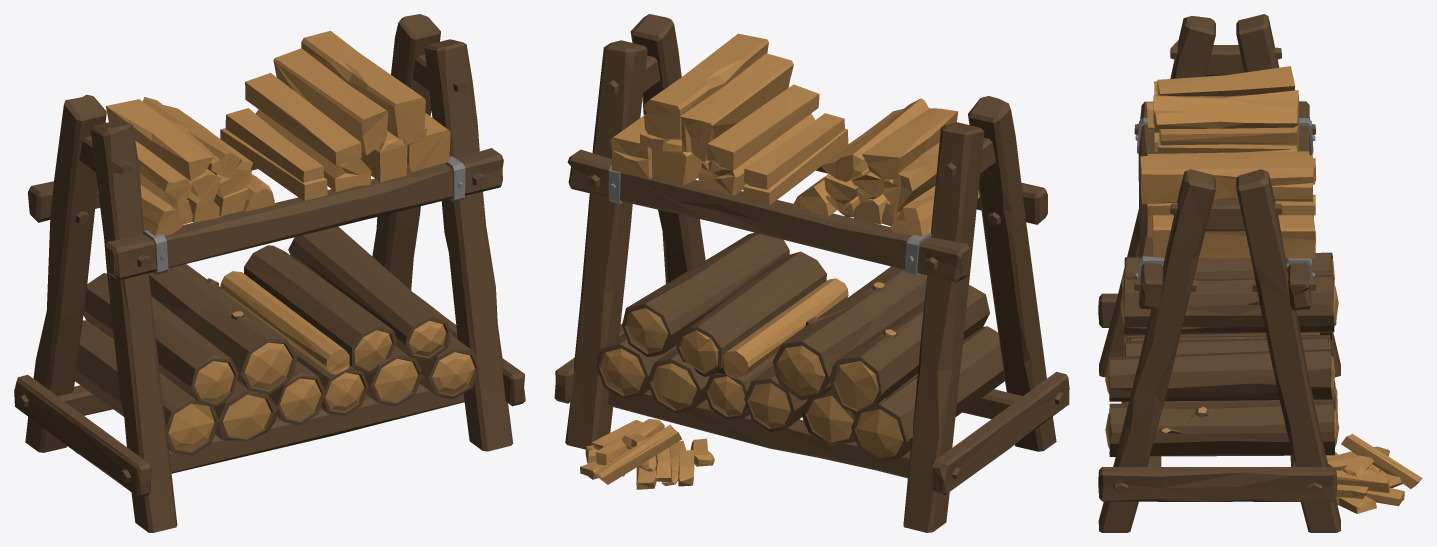
The model's file is WoodenLumberRack.fbx.
3 renders of one model, left to right at view 1: azimuth 30°, elevation 25°; view 2: azimuth 150°, elevation 25°; view 3: azimuth 270°, elevation 25°, orthographic. The views are drawn at different scales.
Parts seen in each view (by area): view 1: WoodenLumberRack; view 2: WoodenLumberRack; view 3: WoodenLumberRack.
Part boxes in pixels (x1,y1,x2,y2): WoodenLumberRack: (14, 14, 525, 532); WoodenLumberRack: (554, 14, 1069, 532); WoodenLumberRack: (1098, 14, 1422, 532).
Bounding box in the file's own units: 1.44 × 1.08 × 1.29.
